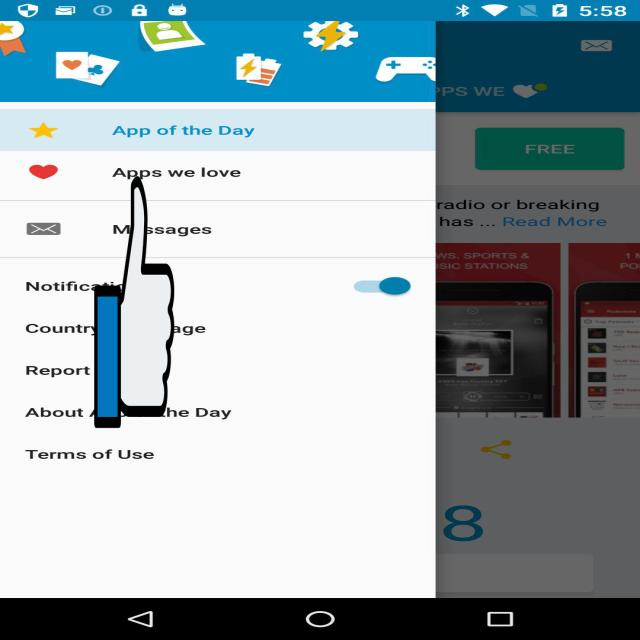privacy zuckering: (94, 171, 174, 433)
